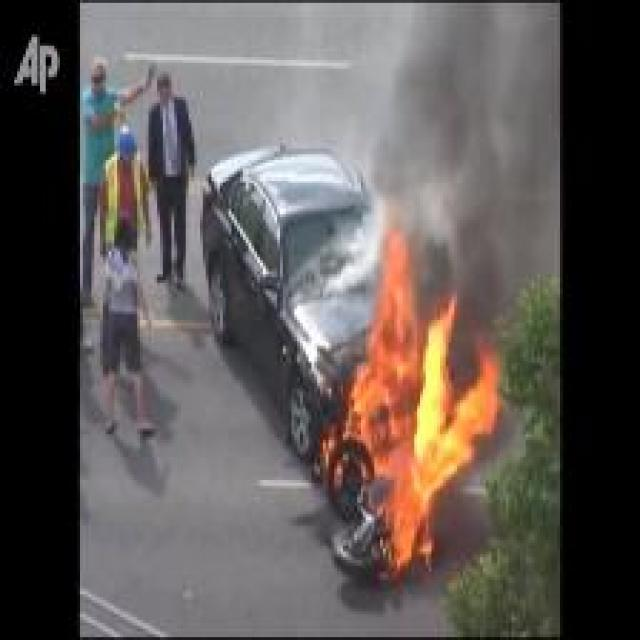Fire: (343, 214, 500, 577)
